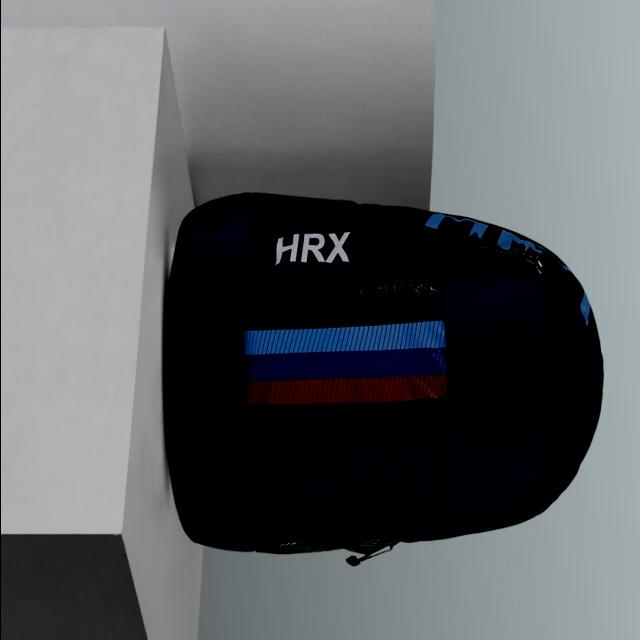backpack: (163, 192, 605, 565)
